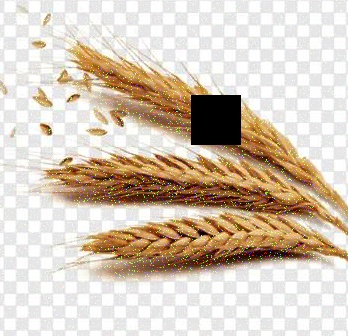wheat: (61, 41, 326, 187), (18, 143, 335, 217), (56, 211, 343, 258)
